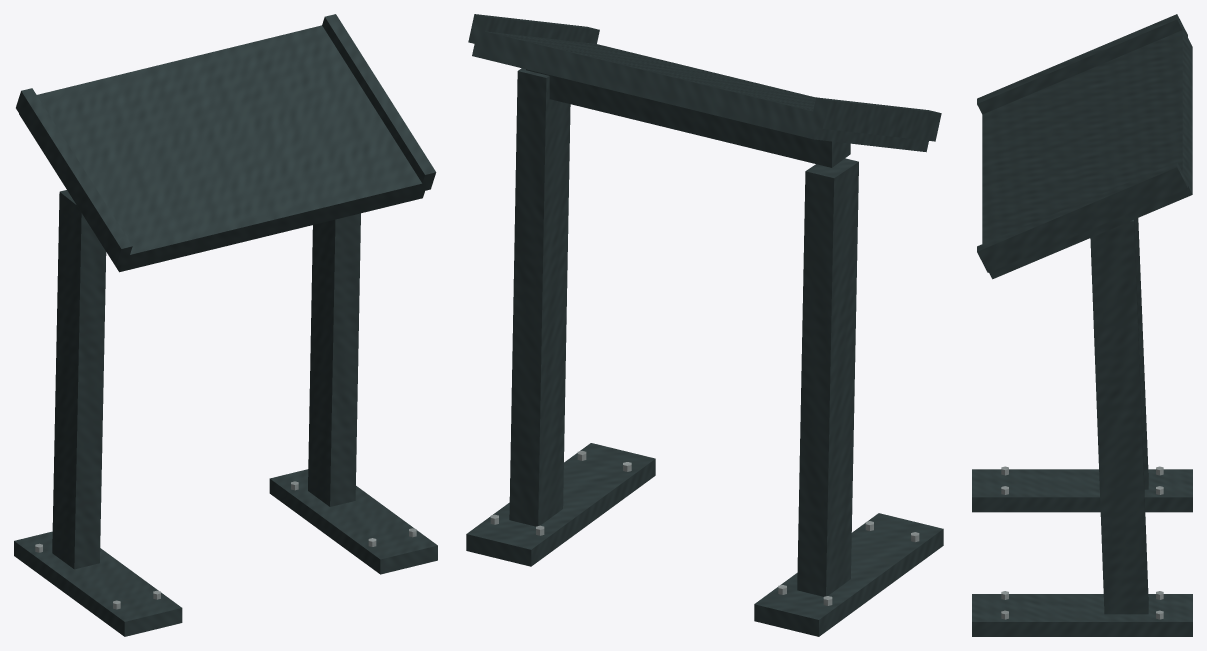
3 renders of one model, left to right at view 1: azimuth 30°, elevation 25°; view 2: azimuth 150°, elevation 25°; view 3: azimuth 270°, elevation 25°, orthographic. The views are drawn at different scales.
Parts seen in each view (by area): view 1: B022-06_tray_iron, B022-06_frame_iron, B022-06_base_iron; view 2: B022-06_frame_iron, B022-06_base_iron, B022-06_tray_iron, B022-06_fasteners_steel; view 3: B022-06_tray_iron, B022-06_frame_iron, B022-06_base_iron, B022-06_fasteners_steel.
Part boxes in pixels (bbox=[...]): B022-06_tray_iron: bbox=[19, 25, 424, 272]; B022-06_frame_iron: bbox=[16, 14, 436, 569]; B022-06_base_iron: bbox=[14, 469, 437, 636]; B022-06_frame_iron: bbox=[468, 14, 941, 596]; B022-06_base_iron: bbox=[466, 443, 943, 636]; B022-06_tray_iron: bbox=[472, 30, 928, 152]; B022-06_fasteners_steel: bbox=[490, 451, 919, 605]; B022-06_tray_iron: bbox=[982, 30, 1192, 279]; B022-06_frame_iron: bbox=[977, 14, 1187, 614]; B022-06_base_iron: bbox=[972, 469, 1192, 636]; B022-06_fasteners_steel: bbox=[1001, 466, 1163, 619].
Bounding box in the file's own units: 0.985 × 1.41 × 0.6.
Materials: 3 (3 with a texture image).
